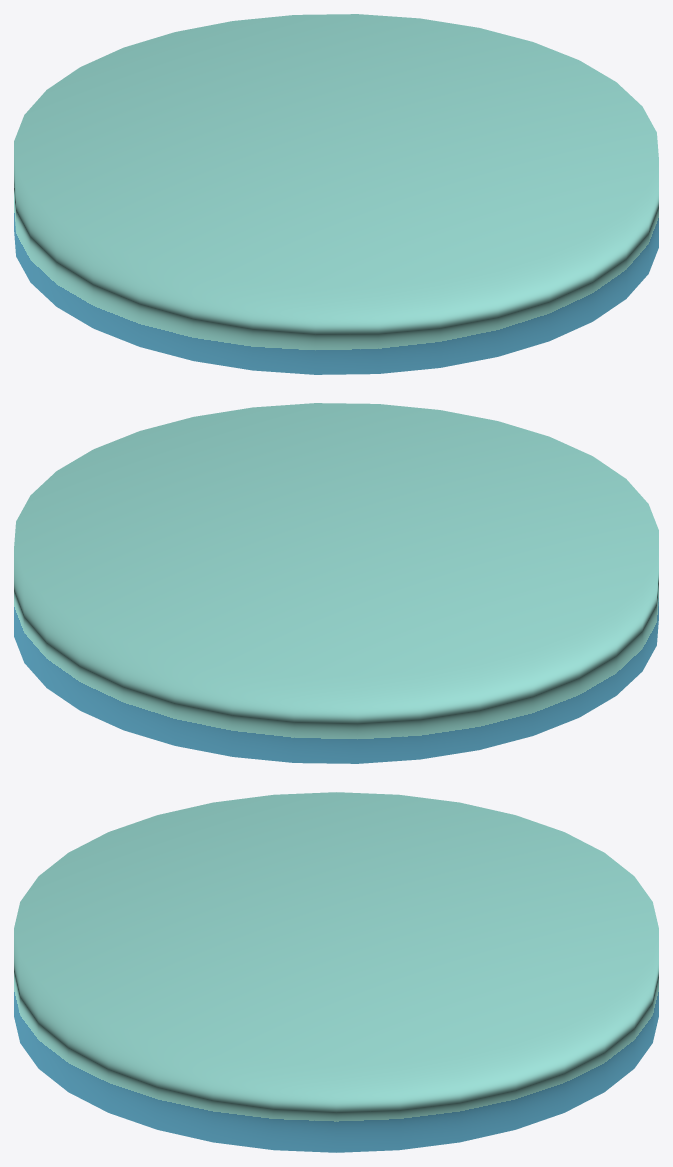
File: spawn.fbx
3 renders of one model, top to bottom at view 1: azimuth 30°, elevation 25°; view 2: azimuth 150°, elevation 25°; view 3: azimuth 270°, elevation 25°, orthographic.
Visible parts, largest first — view 1: Cylinder.004; view 2: Cylinder.004; view 3: Cylinder.004.
Boxes of the visible parts, bbox=[...] form: Cylinder.004: bbox=[14, 14, 658, 374]; Cylinder.004: bbox=[14, 403, 658, 763]; Cylinder.004: bbox=[14, 792, 658, 1152].
Bounding box in the file's own units: 200 × 30.13 × 200.
1 material, 1 textured.
